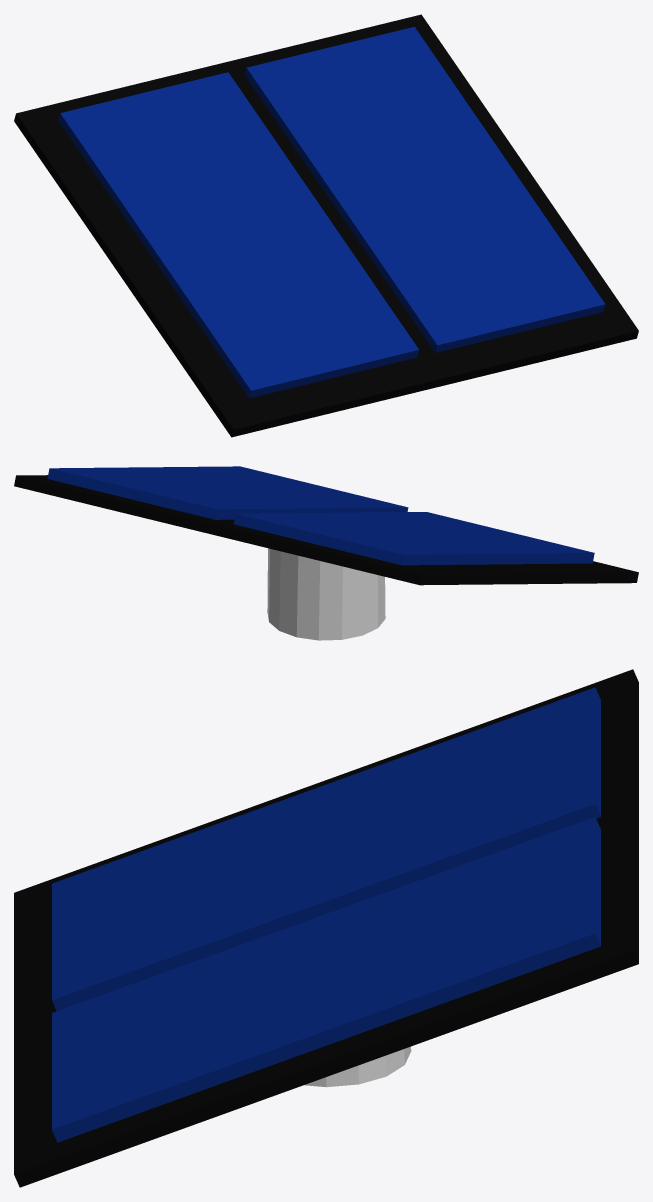
File: Solar.fbx
3 views of the same model, one above another, from view 1: azimuth 30°, elevation 25°; view 2: azimuth 150°, elevation 25°; view 3: azimuth 270°, elevation 25° (orthographic). The views are drawn at different scales.
Visible parts, largest first — view 1: Cube.002, Cube.001, Cube; view 2: Cube.002, Cube.001, Cube, Cylinder; view 3: Cube.001, Cube.002, Cube, Cylinder.
Boxes of the visible parts, bbox=[...] form: Cube.002: bbox=[58, 72, 418, 398]; Cube.001: bbox=[244, 26, 605, 352]; Cube: bbox=[14, 14, 638, 437]; Cube.002: bbox=[234, 512, 594, 565]; Cube.001: bbox=[47, 466, 408, 519]; Cube: bbox=[14, 475, 638, 585]; Cylinder: bbox=[267, 548, 385, 640]; Cube.001: bbox=[52, 817, 600, 1142]; Cube.002: bbox=[52, 687, 600, 1010]; Cube: bbox=[14, 669, 638, 1187]; Cylinder: bbox=[304, 1046, 411, 1087].
Size of the model in its own units: 200 by 81.04 by 188.
